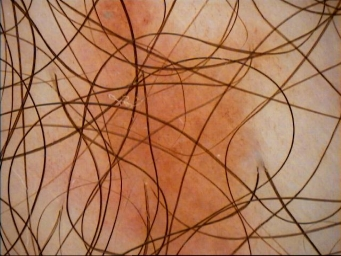melanoma: (95, 2, 249, 256)
